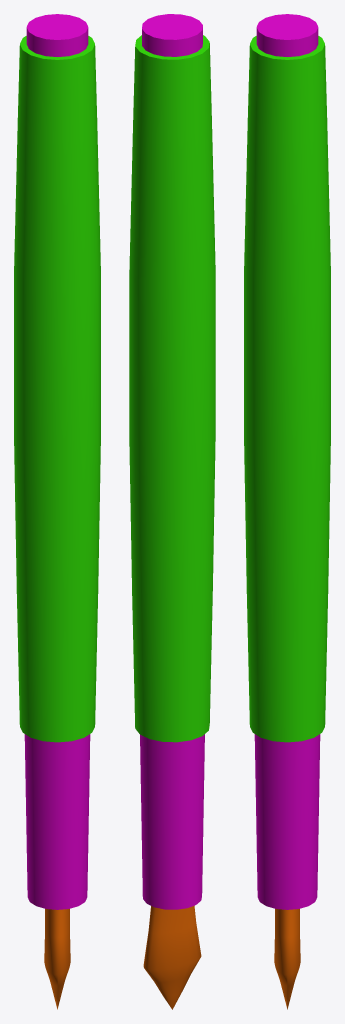
File: Pen_01.fbx
3 views of the same model, side by side, from view 1: azimuth 90°, elevation 25°; view 2: azimuth 210°, elevation 25°; view 3: azimuth 270°, elevation 25° (orthographic).
Visible parts, largest first — view 1: FountainPen_01; view 2: FountainPen_01; view 3: FountainPen_01.
Boxes of the visible parts, left/top/right/bottom form: FountainPen_01: left=14, top=14, right=100, bottom=1009; FountainPen_01: left=129, top=14, right=215, bottom=1009; FountainPen_01: left=244, top=14, right=330, bottom=1009.
Size of the model in its own units: 2.81 by 35.08 by 2.81.
